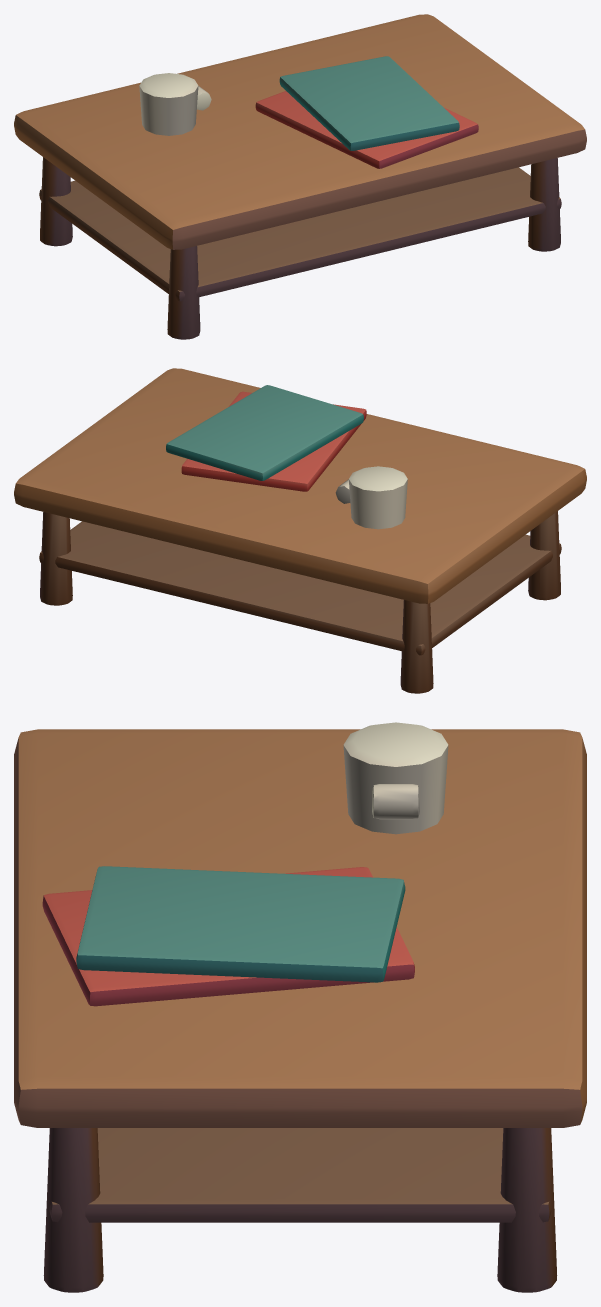
The model's file is CoffeeTable.fbx.
The picture shows the model from 3 angles, top to bottom: view 1: azimuth 30°, elevation 25°; view 2: azimuth 150°, elevation 25°; view 3: azimuth 270°, elevation 25°; orthographic projection. The views are drawn at different scales.
Visible parts, largest first — view 1: SM_Prop_CoffeeTable; view 2: SM_Prop_CoffeeTable; view 3: SM_Prop_CoffeeTable.
Part boxes in pixels (box(x1,y1,x2,y2)): SM_Prop_CoffeeTable: box(14, 14, 586, 339); SM_Prop_CoffeeTable: box(14, 368, 586, 693); SM_Prop_CoffeeTable: box(14, 722, 586, 1292).
Size of the model in its own units: 3.6 by 1.36 by 2.4.
